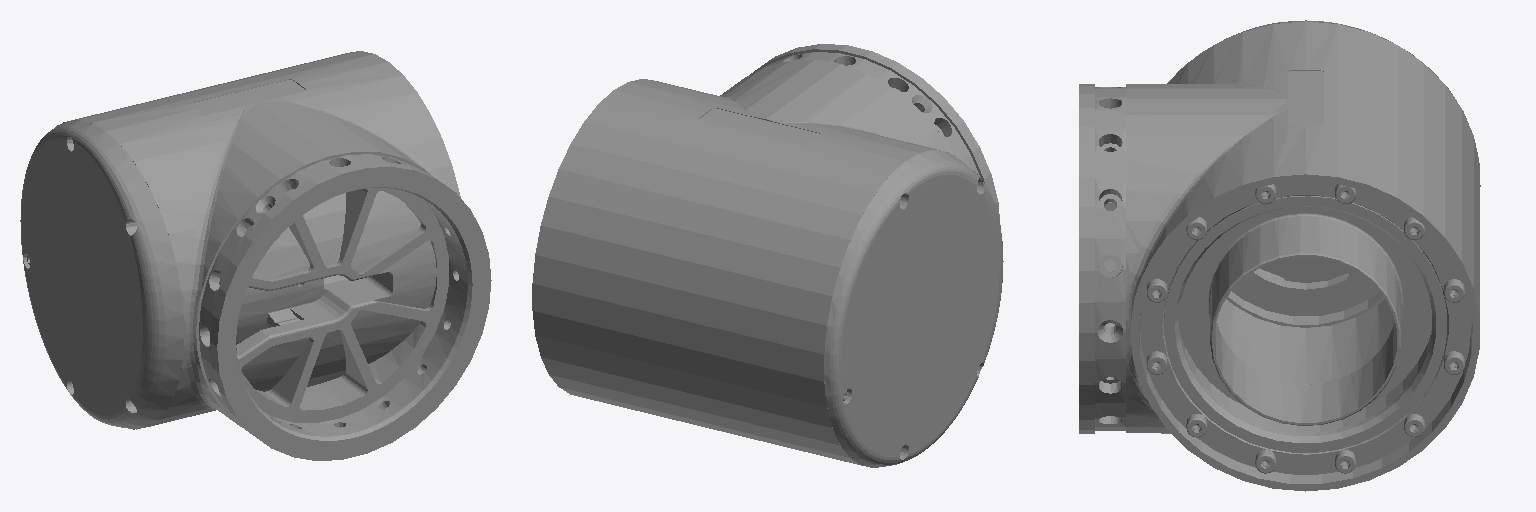
robot.urdf — 110T简化版:
<?xml version="1.0" encoding="utf-8"?>
<!-- This URDF was automatically created by SolidWorks to URDF Exporter! Originally created by [author] ([email redacted]) 
     Commit Version: 1.6.0-4-g7f85cfe  Build Version: 1.6.7995.38578
     For more information, please see http://wiki.ros.org/sw_urdf_exporter -->
<robot
  name="110T简化版">
  <link
    name="base_link">
    <inertial>
      <origin
        xyz="0.043815 -0.0099817 -1.9964E-05"
        rpy="0 0 0" />
      <mass
        value="0.62467" />
      <inertia
        ixx="0.0017216"
        ixy="1.4131E-05"
        ixz="-3.1003E-07"
        iyy="0.0011986"
        iyz="7.6434E-07"
        izz="0.001262" />
    </inertial>
    <visual>
      <origin
        xyz="0 0 0"
        rpy="0 0 0" />
      <geometry>
        <mesh
          filename="package://erob_description/meshes/erob110t/base_link.STL" />
      </geometry>
      <material
        name="">
        <color
          rgba="0.627 0.627 0.627 1" />
      </material>
    </visual>
    <collision>
      <origin
        xyz="0 0 0"
        rpy="0 0 0" />
      <geometry>
        <mesh
          filename="package://erob_description/meshes/erob110t/base_link.STL" />
      </geometry>
    </collision>
  </link>
  <link
    name="revolute_link">
    <inertial>
      <origin
        xyz="-0.017948 2.9558E-05 -2.2408E-09"
        rpy="0 0 0" />
      <mass
        value="0.15611" />
      <inertia
        ixx="0.00018425"
        ixy="-3.6668E-08"
        ixz="-6.5075E-11"
        iyy="0.00013296"
        iyz="5.1128E-11"
        izz="0.00013313" />
    </inertial>
    <visual>
      <origin
        xyz="0 0 0"
        rpy="0 0 0" />
      <geometry>
        <mesh
          filename="package://erob_description/meshes/erob110t/revolute_link.STL" />
      </geometry>
      <material
        name="">
        <color
          rgba="0.863 0.863 0.941 1" />
      </material>
    </visual>
    <collision>
      <origin
        xyz="0 0 0"
        rpy="0 0 0" />
      <geometry>
        <mesh
          filename="package://erob_description/meshes/erob110t/revolute_link.STL" />
      </geometry>
    </collision>
  </link>
  <joint
    name="revolute_joint"
    type="continuous">
    <origin
      xyz="0.1164 0 0"
      rpy="0 0 0" />
    <parent
      link="base_link" />
    <child
      link="revolute_link" />
    <axis
      xyz="-1 0 0" />
    <limit
      lower="-3.14"
      upper="3.14"
      effort="78"
      velocity="1.57" />
  </joint>
</robot>

--- What the picture shows (computed from the rendered views, not written in the file) ---
3 views of the same robot in one strip: view 1: azimuth 30°, elevation 25°; view 2: azimuth 150°, elevation 25°; view 3: azimuth 270°, elevation 25° (orthographic).
Model 110T简化版 with 2 links and 1 joints (1 continuous), rooted at base_link, posed all joints at 0.
Visible links, largest first — view 1: base_link; view 2: base_link; view 3: base_link.
Link boxes in pixels (x1,y1,x2,y2): base_link: (20, 51, 491, 460); base_link: (532, 44, 1003, 467); base_link: (1079, 20, 1480, 491).
Bounding box of the posed robot: 0.1371 × 0.133 × 0.116 m (x, y, z).
1 mesh visuals loaded from 2 distinct referenced files (1 binary STL); not drawn: 1 (reference not matched to a file when rendering).
